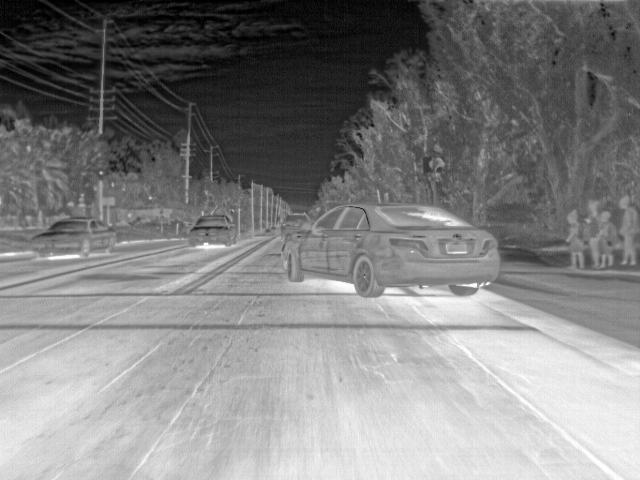car: (281, 203, 502, 299), (32, 218, 118, 260), (189, 214, 239, 248), (281, 213, 312, 232)
person: (617, 195, 638, 267), (564, 209, 585, 269), (598, 211, 614, 269), (585, 200, 598, 269)
